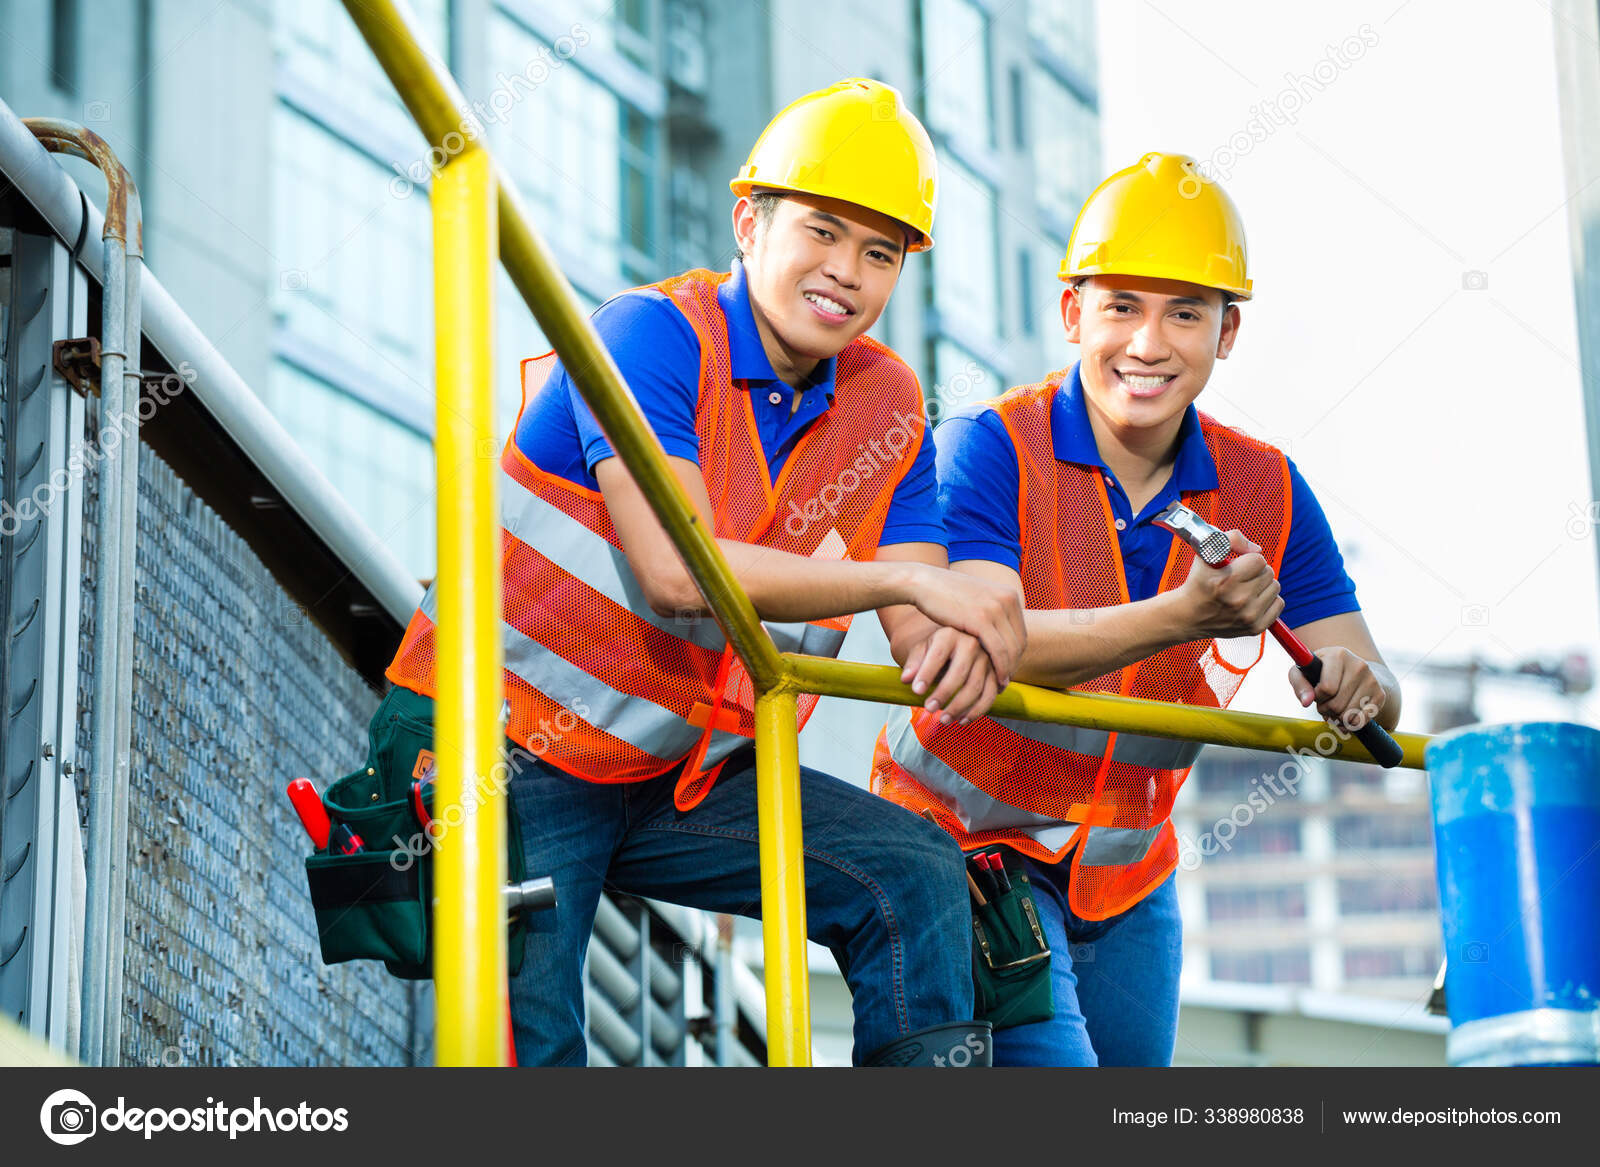With Helmet: (716, 68, 938, 365), (1052, 145, 1258, 450)
